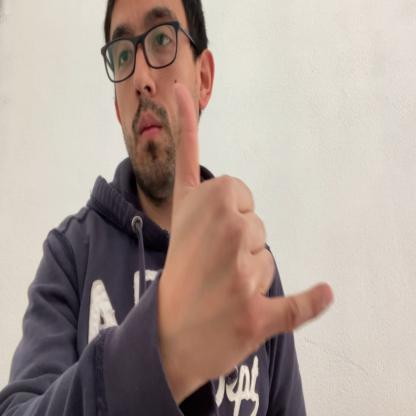Y: (171, 82, 334, 369)
